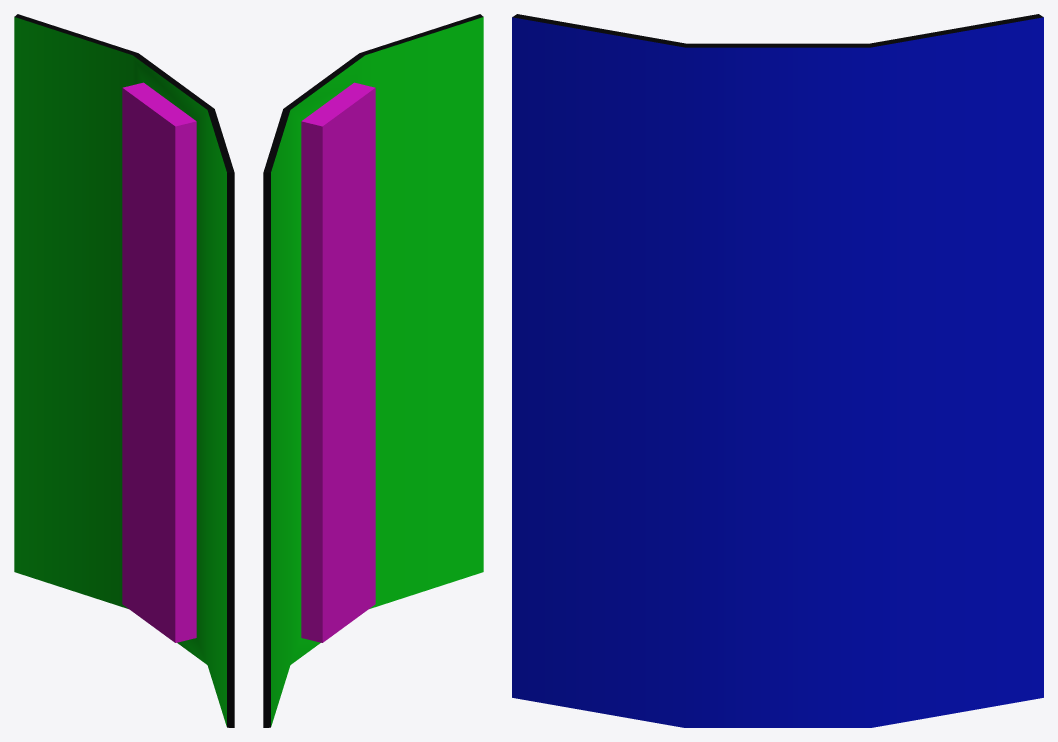
Rendered from cspxs.fbx.
The picture shows the model from 3 angles, left to right: view 1: azimuth 30°, elevation 25°; view 2: azimuth 150°, elevation 25°; view 3: azimuth 270°, elevation 25°; orthographic projection. The views are drawn at different scales.
Parts seen in each view (by area): view 1: cspxs05_mesh; view 2: cspxs05_mesh; view 3: cspxs05_mesh.
Boxes of the visible parts, box(x1,y1,x2,y2) form: cspxs05_mesh: box(14, 14, 234, 727); cspxs05_mesh: box(263, 14, 483, 727); cspxs05_mesh: box(512, 14, 1043, 727).
Size of the model in its own units: 0.0528 by 0.5 by 0.3542.
